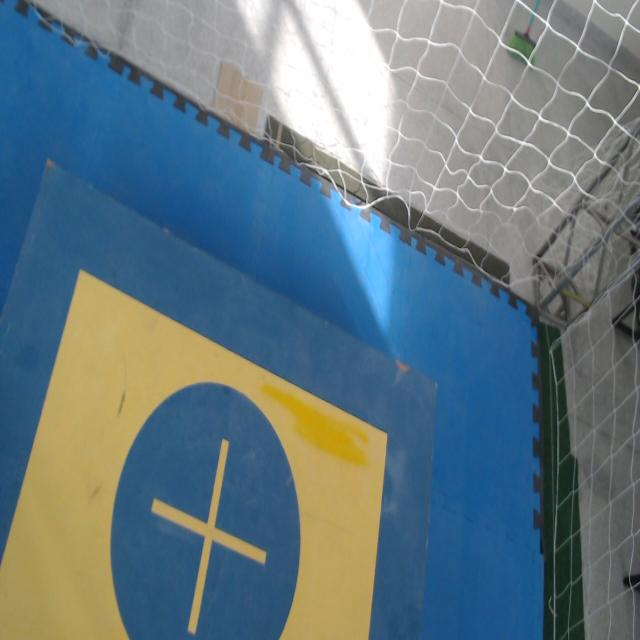base_inicio: (0, 269, 387, 639)
